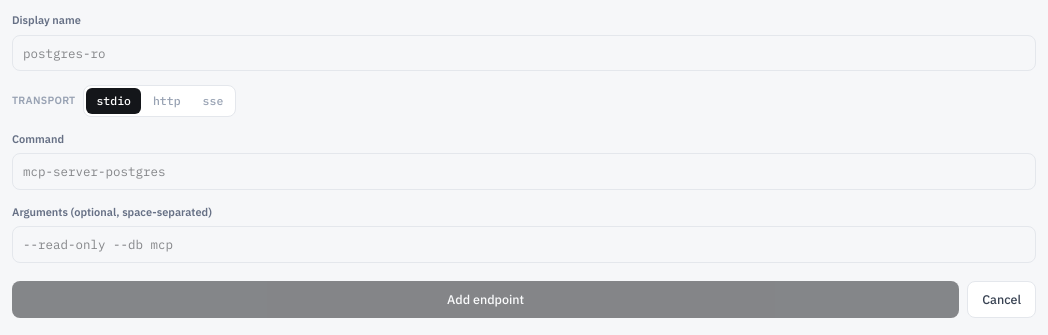
AddEndpointForm › shows a rejected URL against the URL field, not as a loose banner
Click the radio button labelled "http". click: [167, 101]
box: [143,88,191,114]
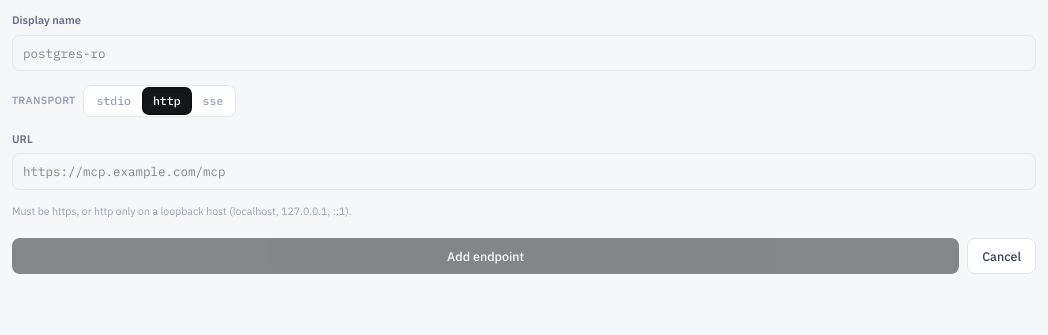
Type "hosted-crm" into the field labelled "Display name". click: [524, 53]
box: [12,34,1036,71]
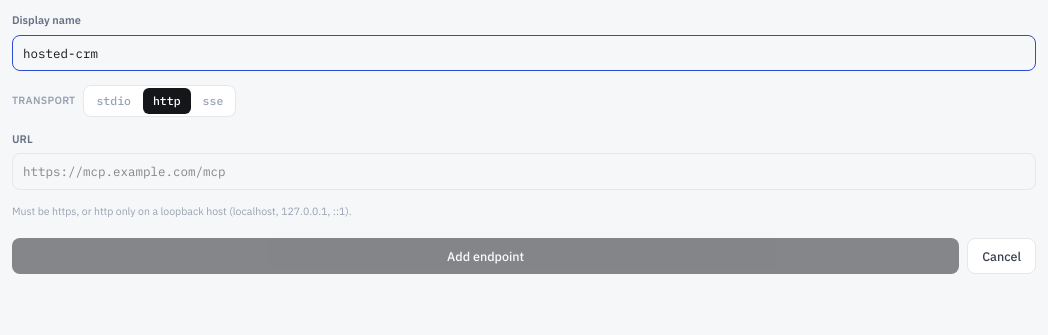
Type "http://mcp.example.com/mcp" into the field labelled "URL". click: [524, 171]
box: [12,153,1036,190]
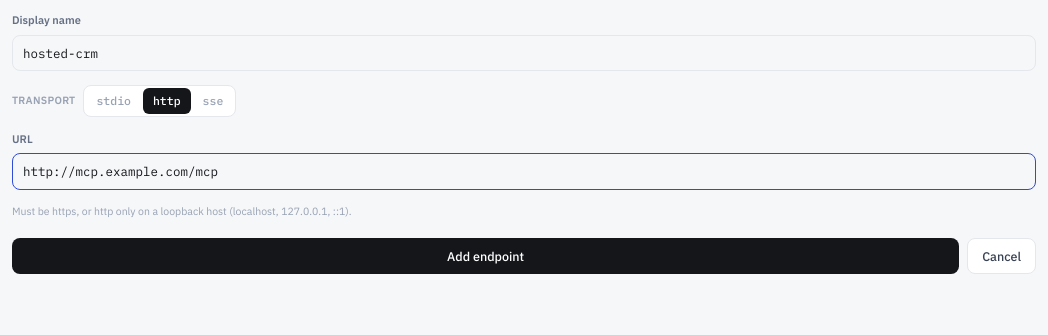
Click the button "Add endpoint". click: [486, 256]
box: [12,238,959,274]
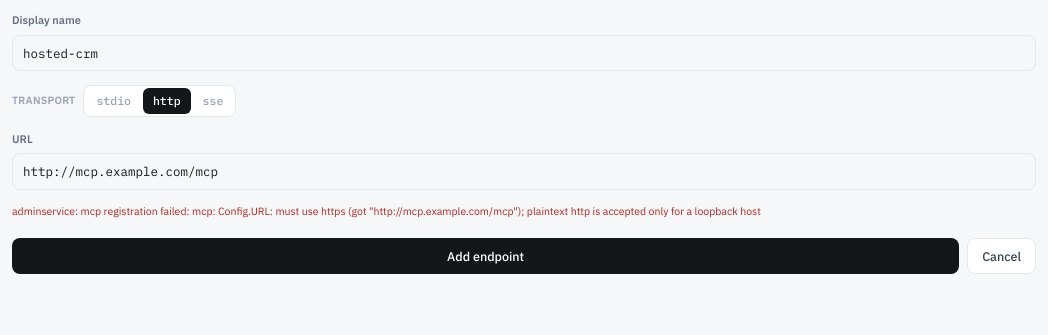
expect the text "must use https" is shown: met, box [12,204,761,218]
